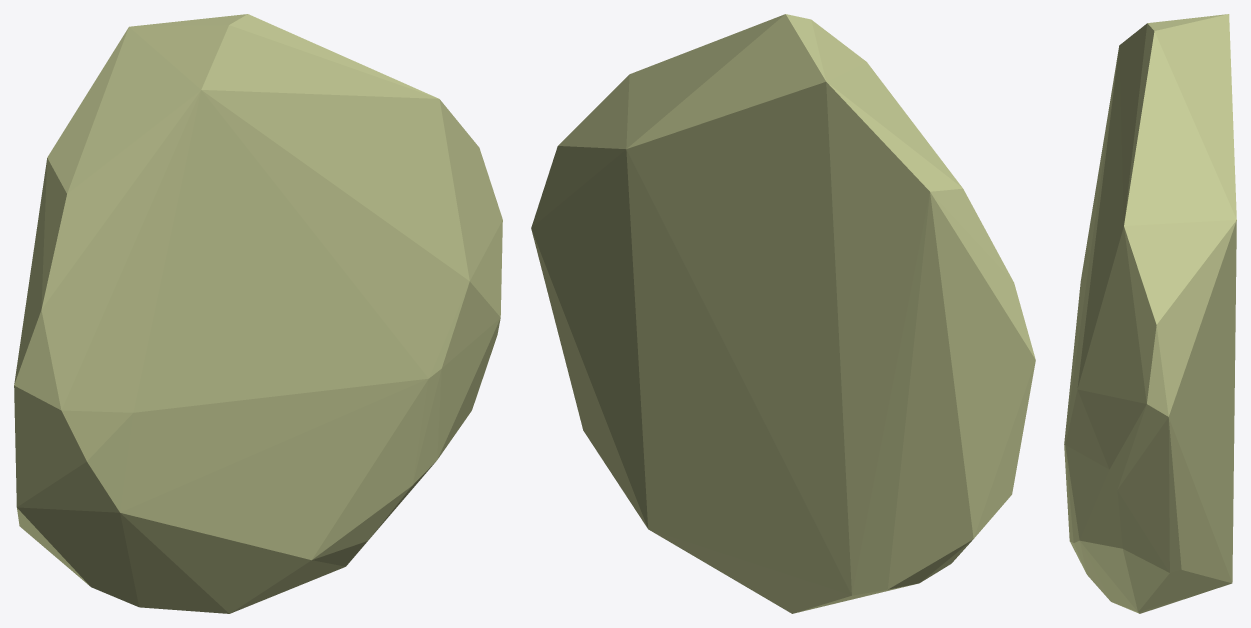
The model's file is food_prepared_bagel_h01.glb.
3 renders of one model, left to right at view 1: azimuth 30°, elevation 25°; view 2: azimuth 150°, elevation 25°; view 3: azimuth 270°, elevation 25°, orthographic. The views are drawn at different scales.
Visible parts, largest first — view 1: geometry_0; view 2: geometry_0; view 3: geometry_0.
Part boxes in pixels (box(x1,y1,x2,y2)): geometry_0: box(14, 14, 502, 613); geometry_0: box(531, 14, 1035, 613); geometry_0: box(1064, 14, 1236, 613).
Bounding box in the file's own units: 0.4164 × 0.4709 × 0.1294.
